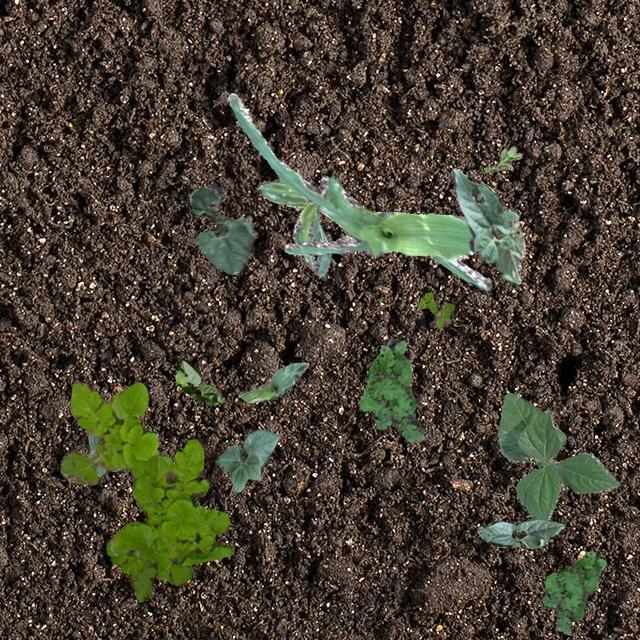crop: (227, 92, 490, 290), (496, 392, 618, 520), (450, 168, 524, 284), (256, 178, 330, 276), (188, 182, 254, 274), (215, 428, 278, 491), (476, 516, 564, 548), (238, 362, 306, 402), (174, 358, 223, 404), (84, 432, 104, 476)
weed: (60, 380, 234, 570), (358, 338, 426, 440), (540, 550, 606, 634), (106, 538, 192, 600), (417, 292, 452, 326), (484, 146, 522, 170)
